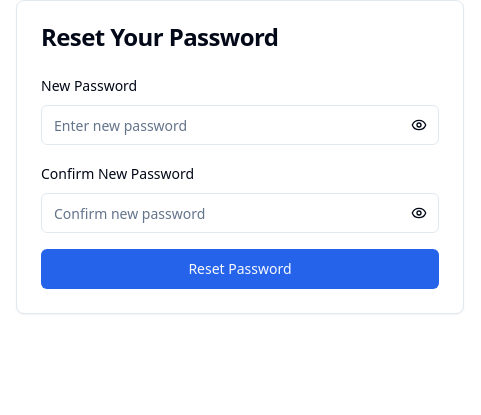
Scenario: PasswordResetForm › shows validation error for short password
Check: the heading "Reset Your Password" is shown, box [41,20,278,53]
In the password field labelled "New Password": (240, 125) [41,105,439,145], type "123"
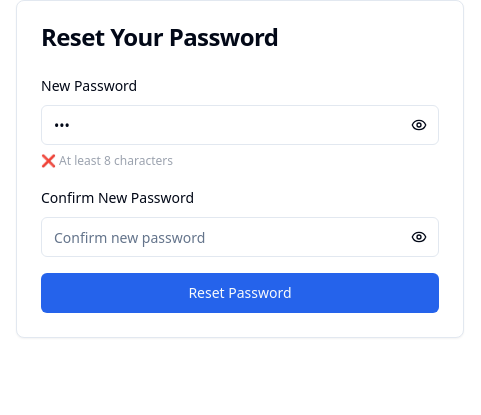
Click the button "Reset Password": (240, 293) [41,273,439,313]
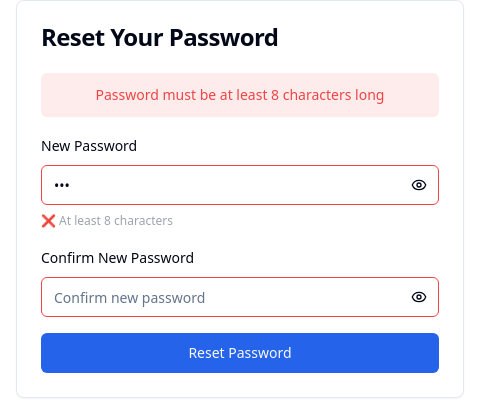
Check: the text "Password must be at least 8 characters long" is shown, box [41,73,439,117]
